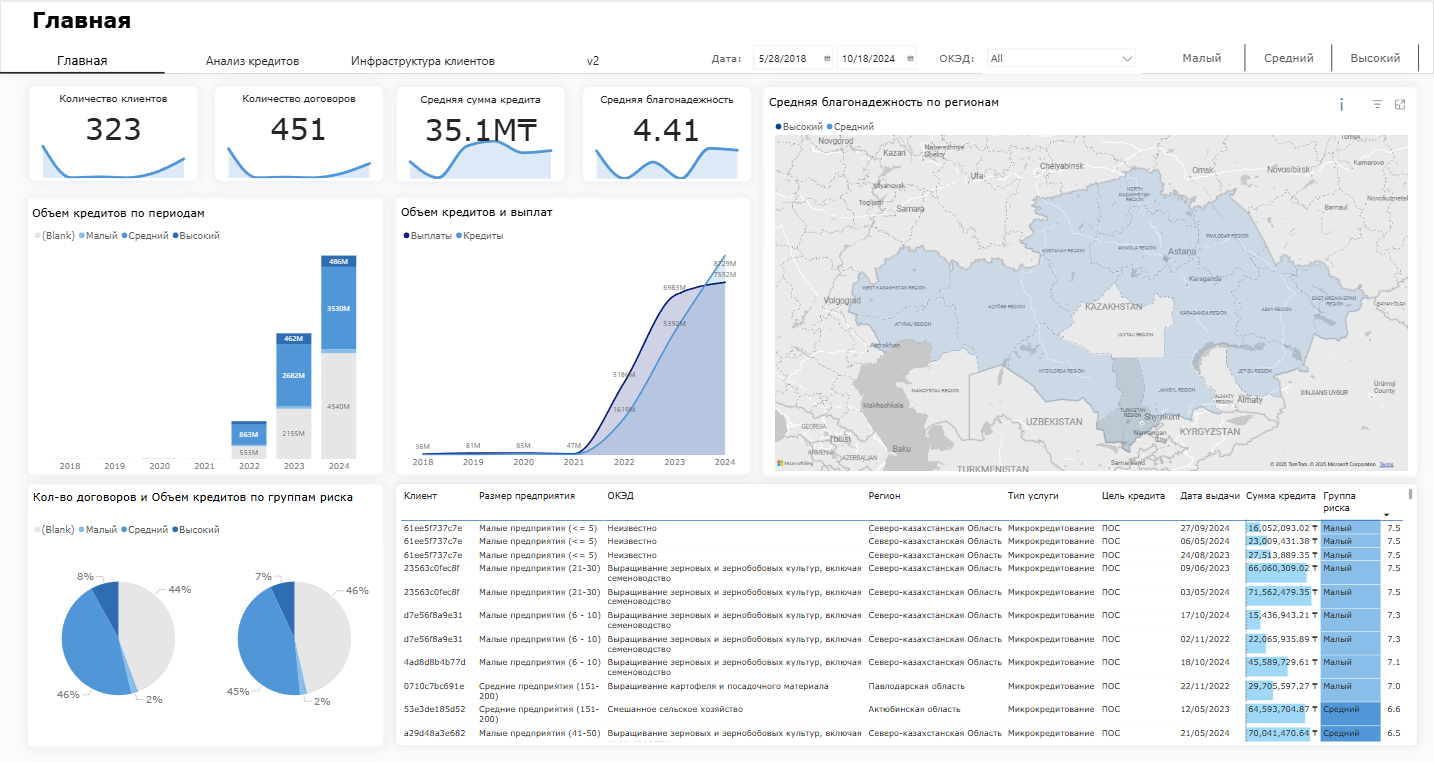

This screenshot's page, from the dashboard's own definition file:
{"tool":"powerbi","page":{"name":"Главная","canvas":[2560,1360],"ordinal":2},"visuals":[{"type":"shape","box":[0,2.1,2560,130],"z":0,"group":"g5"},{"type":"slicer","title":"Дата","fields":{"Values":["3 Date.Dates"]},"box":[1332.5,71.7,329.1,79.1],"z":0,"group":"g6"},{"type":"slicer","fields":{"Values":["0 Business Type.business_type"]},"box":[1753.6,77.4,285,55],"z":0,"group":"g12"},{"type":"shape","box":[383,153,303,171.8],"z":0,"group":"g9"},{"type":"shape","box":[52,153.2,303,171.8],"z":0,"group":"g10"},{"type":"shape","box":[707.2,153.9,303,171.8],"z":0,"group":"g8"},{"type":"shape","box":[1040.5,153.9,303,171.8],"z":0,"group":"g7"},{"type":"shape","box":[1361.4,154.5,1171.9,698.2],"z":0,"group":"g2"},{"type":"shape","box":[48,352,638,498],"z":0,"group":"g4"},{"type":"shape","box":[704,352,638,498],"z":0,"group":"g3"},{"type":"group","id":"g1","title":"Group 8","box":[48,860.8,638,473.2],"z":0},{"type":"shape","box":[48,862,638,472],"z":0,"group":"g1"},{"type":"shape","box":[1252.5,70,90,67.5],"z":1000,"group":"g6"},{"type":"shape","box":[1656.1,74.8,107.5,57.5],"z":1000,"group":"g12"},{"type":"pageNavigator","box":[0,82.1,1207,50],"z":1000,"group":"g5"},{"type":"filledMap","title":"Сумма кредитов по Месяцам","fields":{"Category":["1 MFO_contracts.region"],"Series":["0 Region.Группа риска"]},"box":[1379.2,203.9,1139.9,642.5],"z":1000,"group":"g2"},{"type":"areaChart","fields":{"Category":["3 Date.Calendar Month Year"],"Y":["Measures (2).Количество договоров"]},"box":[383,235.8,302,88],"z":1000,"group":"g9"},{"type":"areaChart","fields":{"Category":["3 Date.Calendar Month Year"],"Y":["Measures (2).Количество заемщиков"]},"box":[52,236,302,88],"z":1000,"group":"g10"},{"type":"areaChart","fields":{"Category":["3 Date.Calendar Month Year"],"Y":["Measures (2).Средняя сумма кредита"]},"box":[707.2,236.7,302,88],"z":1000,"group":"g8"},{"type":"areaChart","fields":{"Category":["3 Date.Calendar Month Year"],"Y":["Measures (2).Средняя благонадежность"]},"box":[1040.5,236.7,302,88],"z":1000,"group":"g7"},{"type":"columnChart","title":"Сумма кредитов по Месяцам","fields":{"Category":["3 Date.Calendar Year","3 Date.Calendar Quarter Year","3 Date.Calendar Month Year"],"Series":["0 Risk Group.Группа риска"],"Y":["Measures (2).Сумма кредитов"]},"box":[56.4,399.6,619.2,452.5],"z":1000,"group":"g4"},{"type":"clusteredColumnChart","title":"Сумма кредитов по Месяцам","fields":{"Category":["3 Date.Calendar Year","3 Date.Calendar Quarter Year","3 Date.Calendar Month Year"],"Y":["Measures (2).Выручка"]},"box":[713.5,399.6,621.5,445.3],"z":1000,"group":"g3"},{"type":"tableEx","fields":{"Values":["0 Client ID.client_id","0 Размеры предприятий.krp_name","0 Business Type.business_type","0 Region.region","0 Service Type.service_type","0 Credit Purpose.credit_purpose","1 MFO_contracts.agreement_date","1 MFO_contracts.credit_sum","0 Risk Group.Группа риска","1 Scores.Final_Score"]},"box":[706.4,862.9,1826.8,469.6],"z":1000},{"type":"shape","title":"Анализ кредитов","box":[47.5,2.1,802.5,67.5],"z":2000,"group":"g5"},{"type":"group","id":"g2","title":"Group 7","box":[1361.4,154.5,1171.9,698.2],"z":2000},{"type":"card","title":"Количество договоров","fields":{"Values":["Measures (2).Количество договоров"]},"box":[381,164.1,304.8,104.8],"z":2000,"group":"g9"},{"type":"card","title":"Количество клиентов","fields":{"Values":["Measures (2).Количество заемщиков"]},"box":[50,164.3,304.8,104.8],"z":2000,"group":"g10"},{"type":"card","title":"Средняя сумма кредита","fields":{"Values":["Measures (2).Средняя сумма кредита"]},"box":[705.2,165,304.8,104.8],"z":2000,"group":"g8"},{"type":"card","title":"Средняя благонадежность","fields":{"Values":["Measures (2).Средняя благонадежность"]},"box":[1038.5,165,304.8,104.8],"z":2000,"group":"g7"},{"type":"shape","box":[47.2,352.9,345.1,50],"z":2000,"group":"g4"},{"type":"shape","box":[1363.4,158.2,828.6,46.5],"z":3000,"group":"g2"},{"type":"group","id":"g3","title":"Group 6","box":[704,352,638,498],"z":3000},{"type":"shape","box":[706,352,244,50],"z":3000,"group":"g3"},{"type":"shape","box":[48,860.8,621.5,52.4],"z":3000,"group":"g1"},{"type":"pieChart","title":"Легенда","fields":{"Category":["0 Risk Group.Группа риска"],"Y":["Measures (2).Сумма кредитов"]},"box":[49,907.8,625.3,395.3],"z":3250,"group":"g11"},{"type":"shape","box":[48,907,638,395],"z":3375,"group":"g11"},{"type":"pieChart","fields":{"Category":["0 Risk Group.Группа риска"],"Y":["Measures (2).Сумма кредитов"]},"box":[367.2,977.3,317.4,325.7],"z":3500,"group":"g11"},{"type":"group","id":"g4","title":"Group 5","box":[47.2,352,638.8,500.1],"z":4000},{"type":"pieChart","fields":{"Category":["0 Risk Group.Группа риска"],"Y":["Measures (2).Количество договоров"]},"box":[51.7,977.3,317.4,325.7],"z":4000,"group":"g11"},{"type":"group","id":"g5","title":"Navigation bar","box":[0,2.1,2560,130.4],"z":5000},{"type":"slicer","fields":{"Values":["0 Risk Group.Группа риска"]},"box":[2050,77.5,502.5,52.5],"z":6000},{"type":"group","id":"g6","title":"Дата","box":[1252.5,70,410,80],"z":7000},{"type":"group","id":"g7","title":"Group 4","box":[1038.5,153.9,303.4,171],"z":8000},{"type":"group","id":"g8","title":"Group 3","box":[705.2,153.9,303.4,171],"z":9000},{"type":"group","id":"g9","title":"Group 2","box":[381,153,304.8,171.4],"z":10000},{"type":"group","id":"g10","title":"Group 1","box":[50,153.2,305,171.8],"z":11000},{"type":"group","id":"g11","title":"Группа 1","box":[48,907,638,396.1],"z":11001,"group":"g1"},{"type":"group","id":"g12","title":"ОКЭД","box":[1656.1,74.8,382.5,57.7],"z":12000}]}

Visuals, with their boxes in screenshot pixels (x1, y1, x2, y2), scaled from the page's 2560x1360 canvas onto the 1434x763 screenshot:
shape: bbox=[0, 1, 1433, 74]
"Дата" slicer: bbox=[746, 40, 931, 85]
slicer - 0 Business Type.business_type: bbox=[982, 43, 1142, 74]
shape: bbox=[215, 86, 384, 182]
shape: bbox=[29, 86, 199, 182]
shape: bbox=[396, 86, 566, 183]
shape: bbox=[583, 86, 753, 183]
shape: bbox=[763, 87, 1419, 478]
shape: bbox=[27, 197, 384, 477]
shape: bbox=[394, 197, 752, 477]
"Group 8" group: bbox=[27, 483, 384, 748]
shape: bbox=[27, 484, 384, 748]
shape: bbox=[702, 39, 752, 77]
shape: bbox=[928, 42, 988, 74]
pageNavigator: bbox=[0, 46, 676, 74]
"Сумма кредитов по Месяцам" filledMap: bbox=[773, 114, 1411, 475]
areaChart - 3 Date.Calendar Month Year x Measures (2).Количество договоров: bbox=[215, 132, 384, 182]
areaChart - 3 Date.Calendar Month Year x Measures (2).Количество заемщиков: bbox=[29, 132, 198, 182]
areaChart - 3 Date.Calendar Month Year x Measures (2).Средняя сумма кредита: bbox=[396, 133, 565, 182]
areaChart - 3 Date.Calendar Month Year x Measures (2).Средняя благонадежность: bbox=[583, 133, 752, 182]
"Сумма кредитов по Месяцам" columnChart: bbox=[32, 224, 378, 478]
"Сумма кредитов по Месяцам" clusteredColumnChart: bbox=[400, 224, 748, 474]
tableEx - 0 Client ID.client_id x 0 Размеры предприятий.krp_name: bbox=[396, 484, 1419, 748]
"Анализ кредитов" shape: bbox=[27, 1, 476, 39]
"Group 7" group: bbox=[763, 87, 1419, 478]
"Количество договоров" card: bbox=[213, 92, 384, 151]
"Количество клиентов" card: bbox=[28, 92, 199, 151]
"Средняя сумма кредита" card: bbox=[395, 93, 566, 151]
"Средняя благонадежность" card: bbox=[582, 93, 752, 151]
shape: bbox=[26, 198, 220, 226]
shape: bbox=[764, 89, 1228, 115]
"Group 6" group: bbox=[394, 197, 752, 477]
shape: bbox=[395, 197, 532, 226]
shape: bbox=[27, 483, 375, 512]
"Легенда" pieChart: bbox=[27, 509, 378, 731]
shape: bbox=[27, 509, 384, 730]
pieChart - 0 Risk Group.Группа риска x Measures (2).Сумма кредитов: bbox=[206, 548, 383, 731]
"Group 5" group: bbox=[26, 197, 384, 478]
pieChart - 0 Risk Group.Группа риска x Measures (2).Количество договоров: bbox=[29, 548, 207, 731]
"Navigation bar" group: bbox=[0, 1, 1433, 74]
slicer - 0 Risk Group.Группа риска: bbox=[1148, 43, 1430, 73]
"Дата" group: bbox=[702, 39, 931, 84]
"Group 4" group: bbox=[582, 86, 752, 182]
"Group 3" group: bbox=[395, 86, 565, 182]
"Group 2" group: bbox=[213, 86, 384, 182]
"Group 1" group: bbox=[28, 86, 199, 182]
"Группа 1" group: bbox=[27, 509, 384, 731]
"ОКЭД" group: bbox=[928, 42, 1142, 74]
